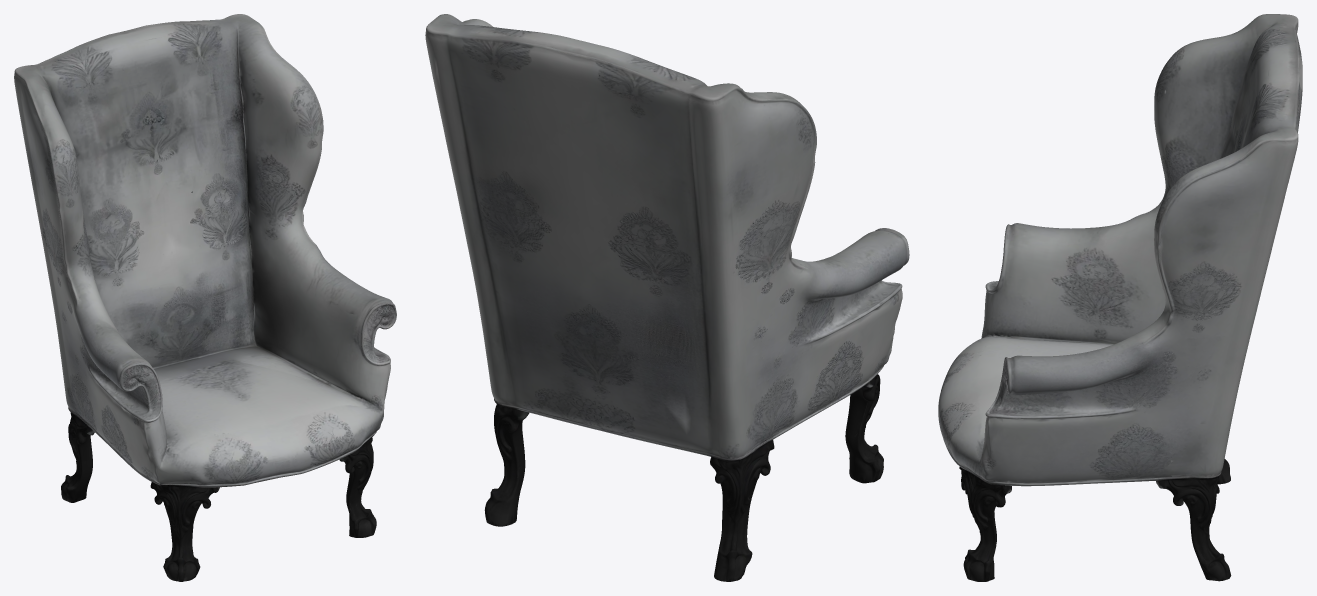
The model's file is m-armchair-realistic.glb.
3 views of the same model, side by side, from view 1: azimuth 30°, elevation 25°; view 2: azimuth 150°, elevation 25°; view 3: azimuth 270°, elevation 25° (orthographic). The views are drawn at different scales.
Visible parts, largest first — view 1: node_0; view 2: node_0; view 3: node_0.
Part boxes in pixels (x1,y1,x2,y2): node_0: (14,14,396,581); node_0: (425,14,909,581); node_0: (938,14,1302,581).
Bounding box in the file's own units: 0.8074 × 1.17 × 0.8338.
1 material, 1 textured.
